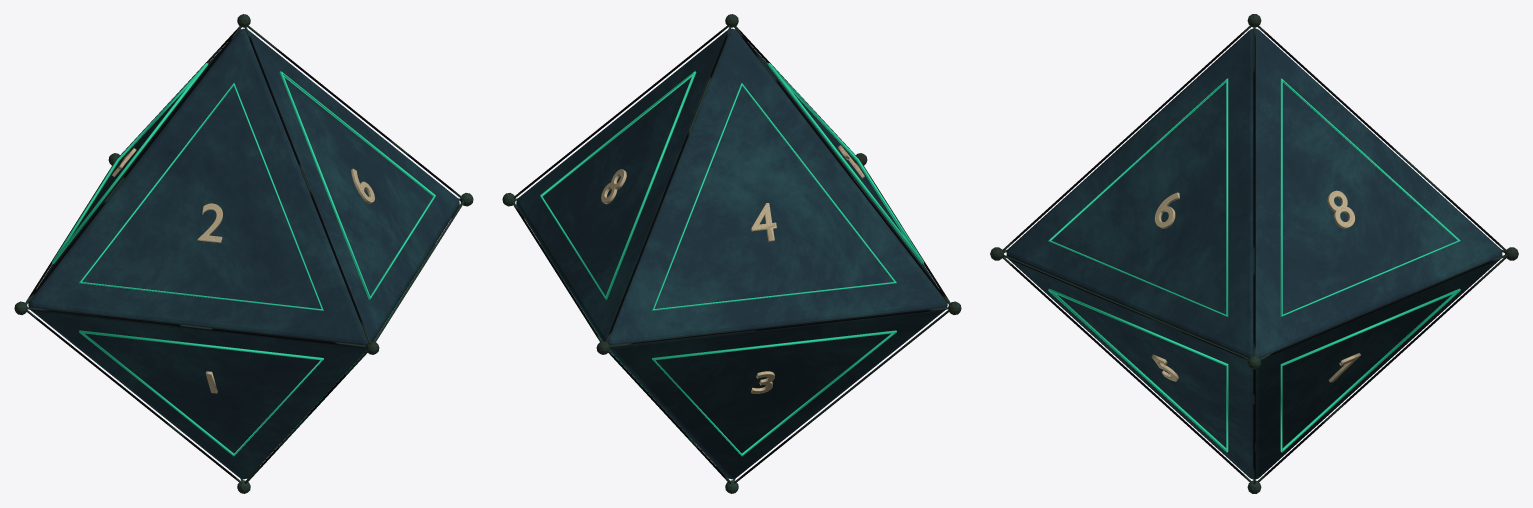
Rendered from D8_八面骰_baked.glb.
3 renders of one model, left to right at view 1: azimuth 30°, elevation 25°; view 2: azimuth 150°, elevation 25°; view 3: azimuth 270°, elevation 25°, orthographic.
Parts seen in each view (by area): view 1: D8_Body_8_Faces, D8_Occult_Face_Borders, D8_Aged_Bronze_Edges, D8_Vertex_Studs; view 2: D8_Body_8_Faces, D8_Occult_Face_Borders, D8_Aged_Bronze_Edges, D8_Vertex_Studs; view 3: D8_Body_8_Faces, D8_Occult_Face_Borders, D8_Aged_Bronze_Edges, D8_Vertex_Studs, D8_Face_08_8.
Boxes of the visible parts, left/top/right/bottom form: D8_Body_8_Faces: left=28, top=28, right=459, bottom=479; D8_Occult_Face_Borders: left=52, top=63, right=435, bottom=456; D8_Aged_Bronze_Edges: left=25, top=25, right=464, bottom=483; D8_Vertex_Studs: left=14, top=14, right=473, bottom=493; D8_Body_8_Faces: left=516, top=28, right=947, bottom=479; D8_Occult_Face_Borders: left=540, top=63, right=923, bottom=456; D8_Aged_Bronze_Edges: left=511, top=25, right=950, bottom=483; D8_Vertex_Studs: left=502, top=14, right=961, bottom=493; D8_Body_8_Faces: left=1006, top=28, right=1502, bottom=479; D8_Occult_Face_Borders: left=1048, top=78, right=1460, bottom=452; D8_Aged_Bronze_Edges: left=1002, top=26, right=1506, bottom=484; D8_Vertex_Studs: left=990, top=14, right=1518, bottom=493; D8_Face_08_8: left=1327, top=190, right=1355, bottom=228.
Bounding box in the file's own units: 4.16 × 4.17 × 4.17.
12 materials, 11 textured.
